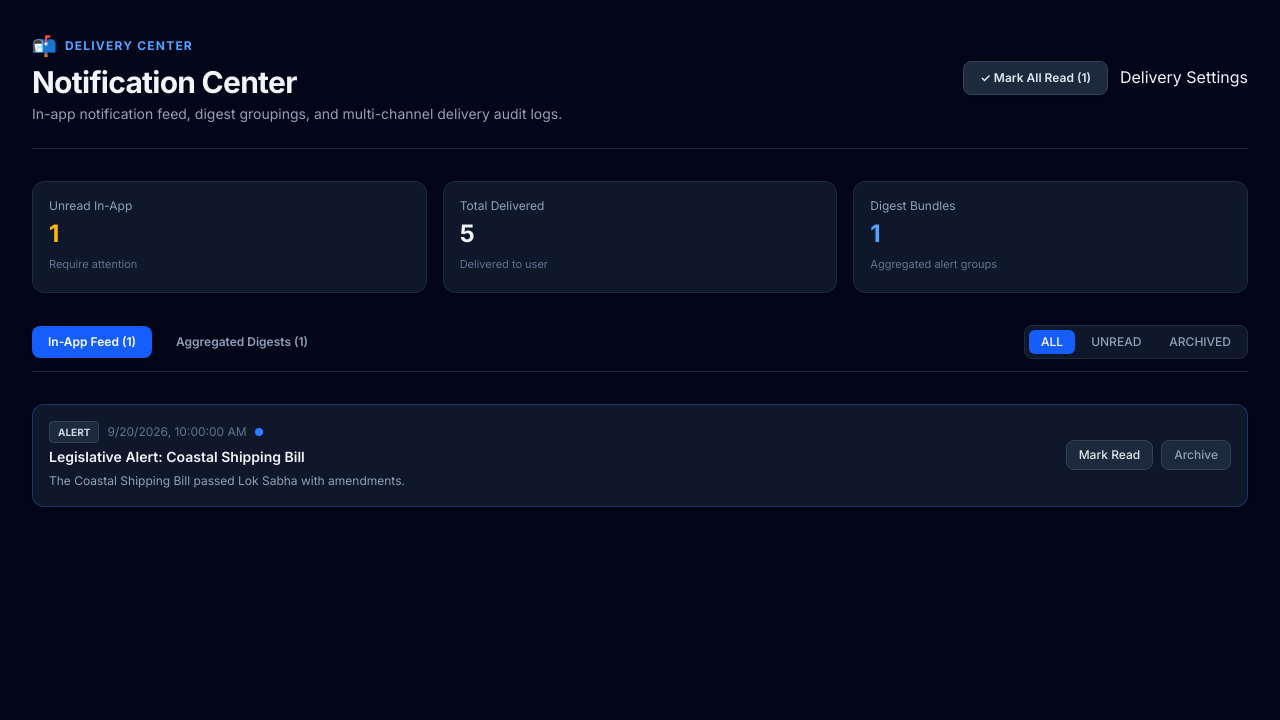
NotificationsPage Component › switches to Aggregated Digests tab and displays digest cards
Click the button "Aggregated Digests (1)": {"x": 242, "y": 342} [160, 326, 324, 358]
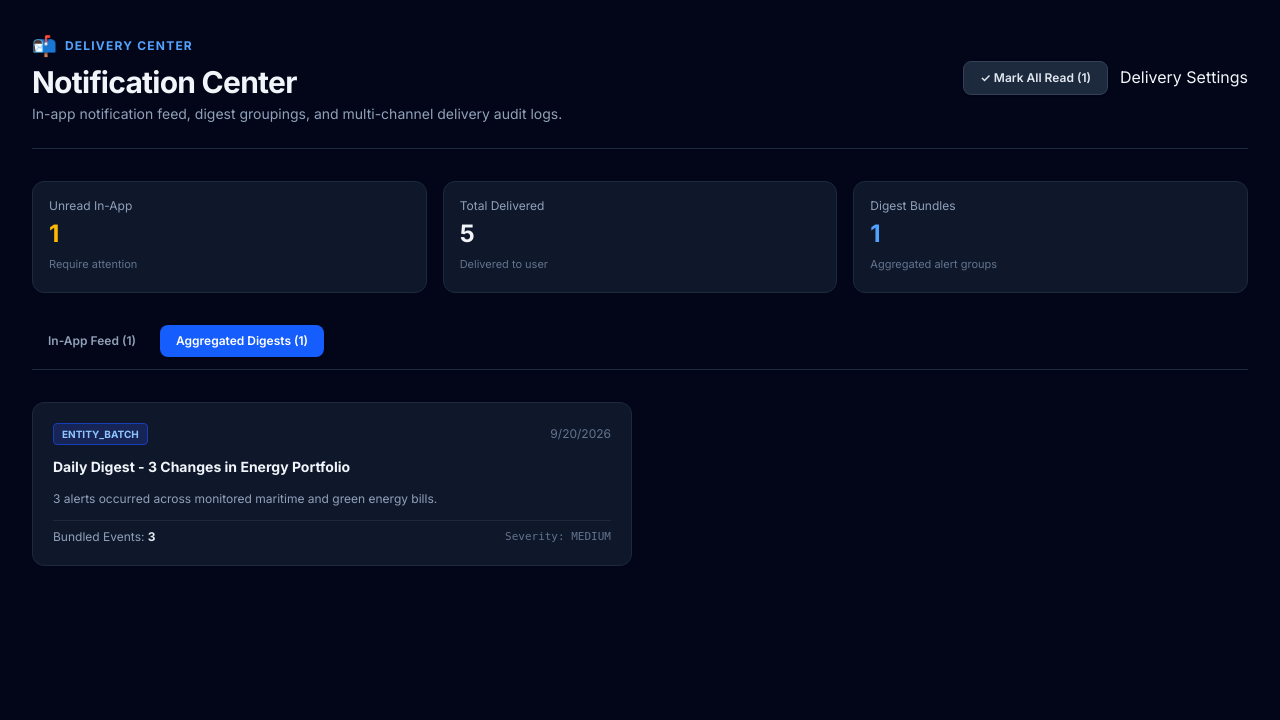
Expected: the heading "Daily Digest - 3 Changes in Energy Portfolio" is shown, [53, 458, 350, 475]
Expected: the text "3 alerts occurred across monitored maritime" is shown, [53, 491, 437, 506]
